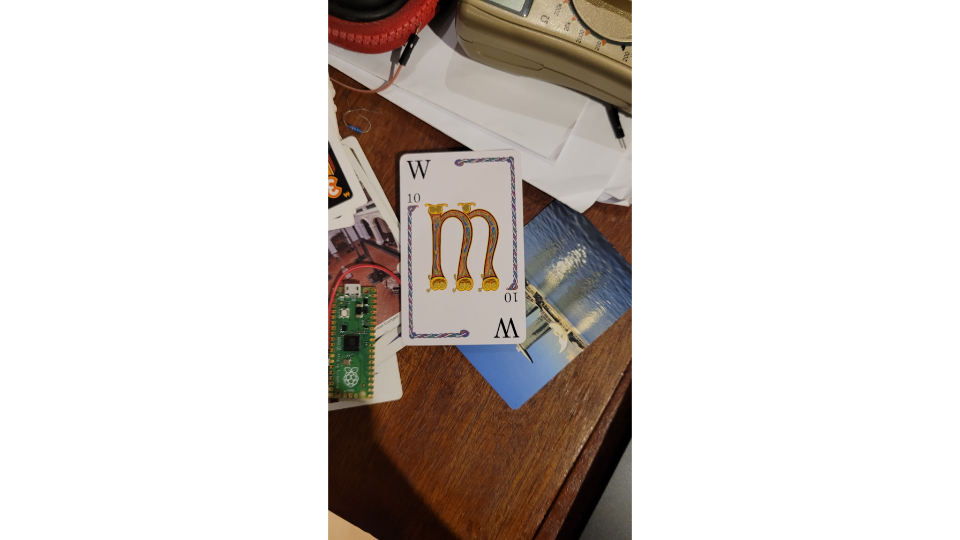W: (396, 146, 531, 347)
